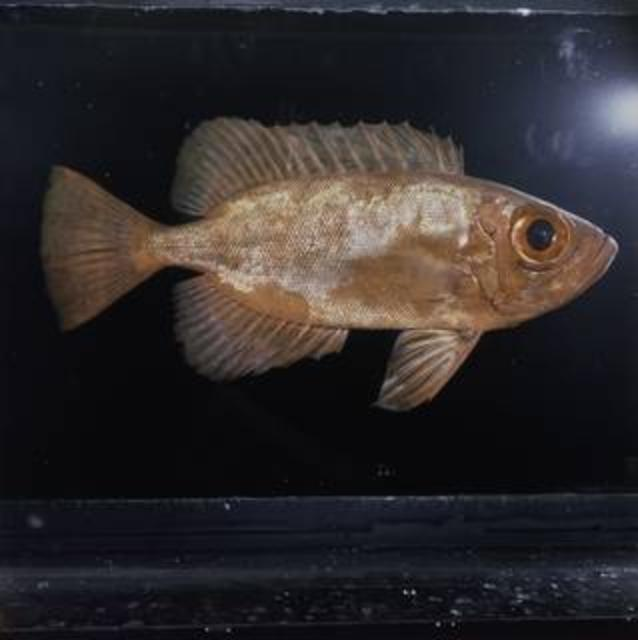Mulut: (584, 206, 638, 306)
Sirip Anal: (168, 265, 350, 391)
Sirip Dada: (382, 238, 466, 312)
Sirip Ekor: (31, 156, 156, 340)
Sirip Perut: (364, 321, 492, 412)
Sirip Punggung: (162, 106, 470, 222)
